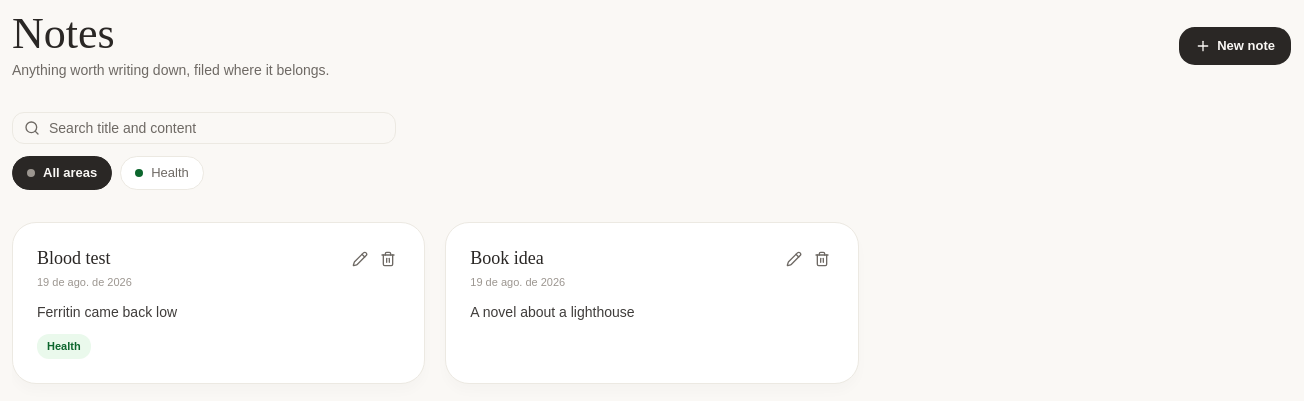
NotesPage › sends the search to the server, which is what can match on content
Expected: the heading "Blood test" is shown, [37,248,110,268]
Type "lighthouse" into the field named "Search notes" at coordinates (204, 128), box [12,112,396,144]
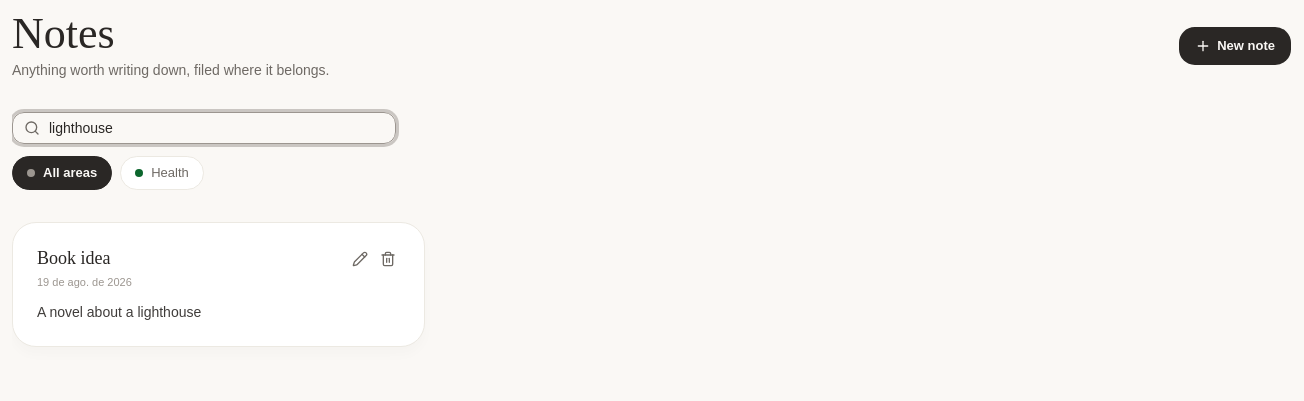
Expected: the heading "Book idea" is shown, [37,248,110,268]
Expected: the heading "Blood test" is gone
